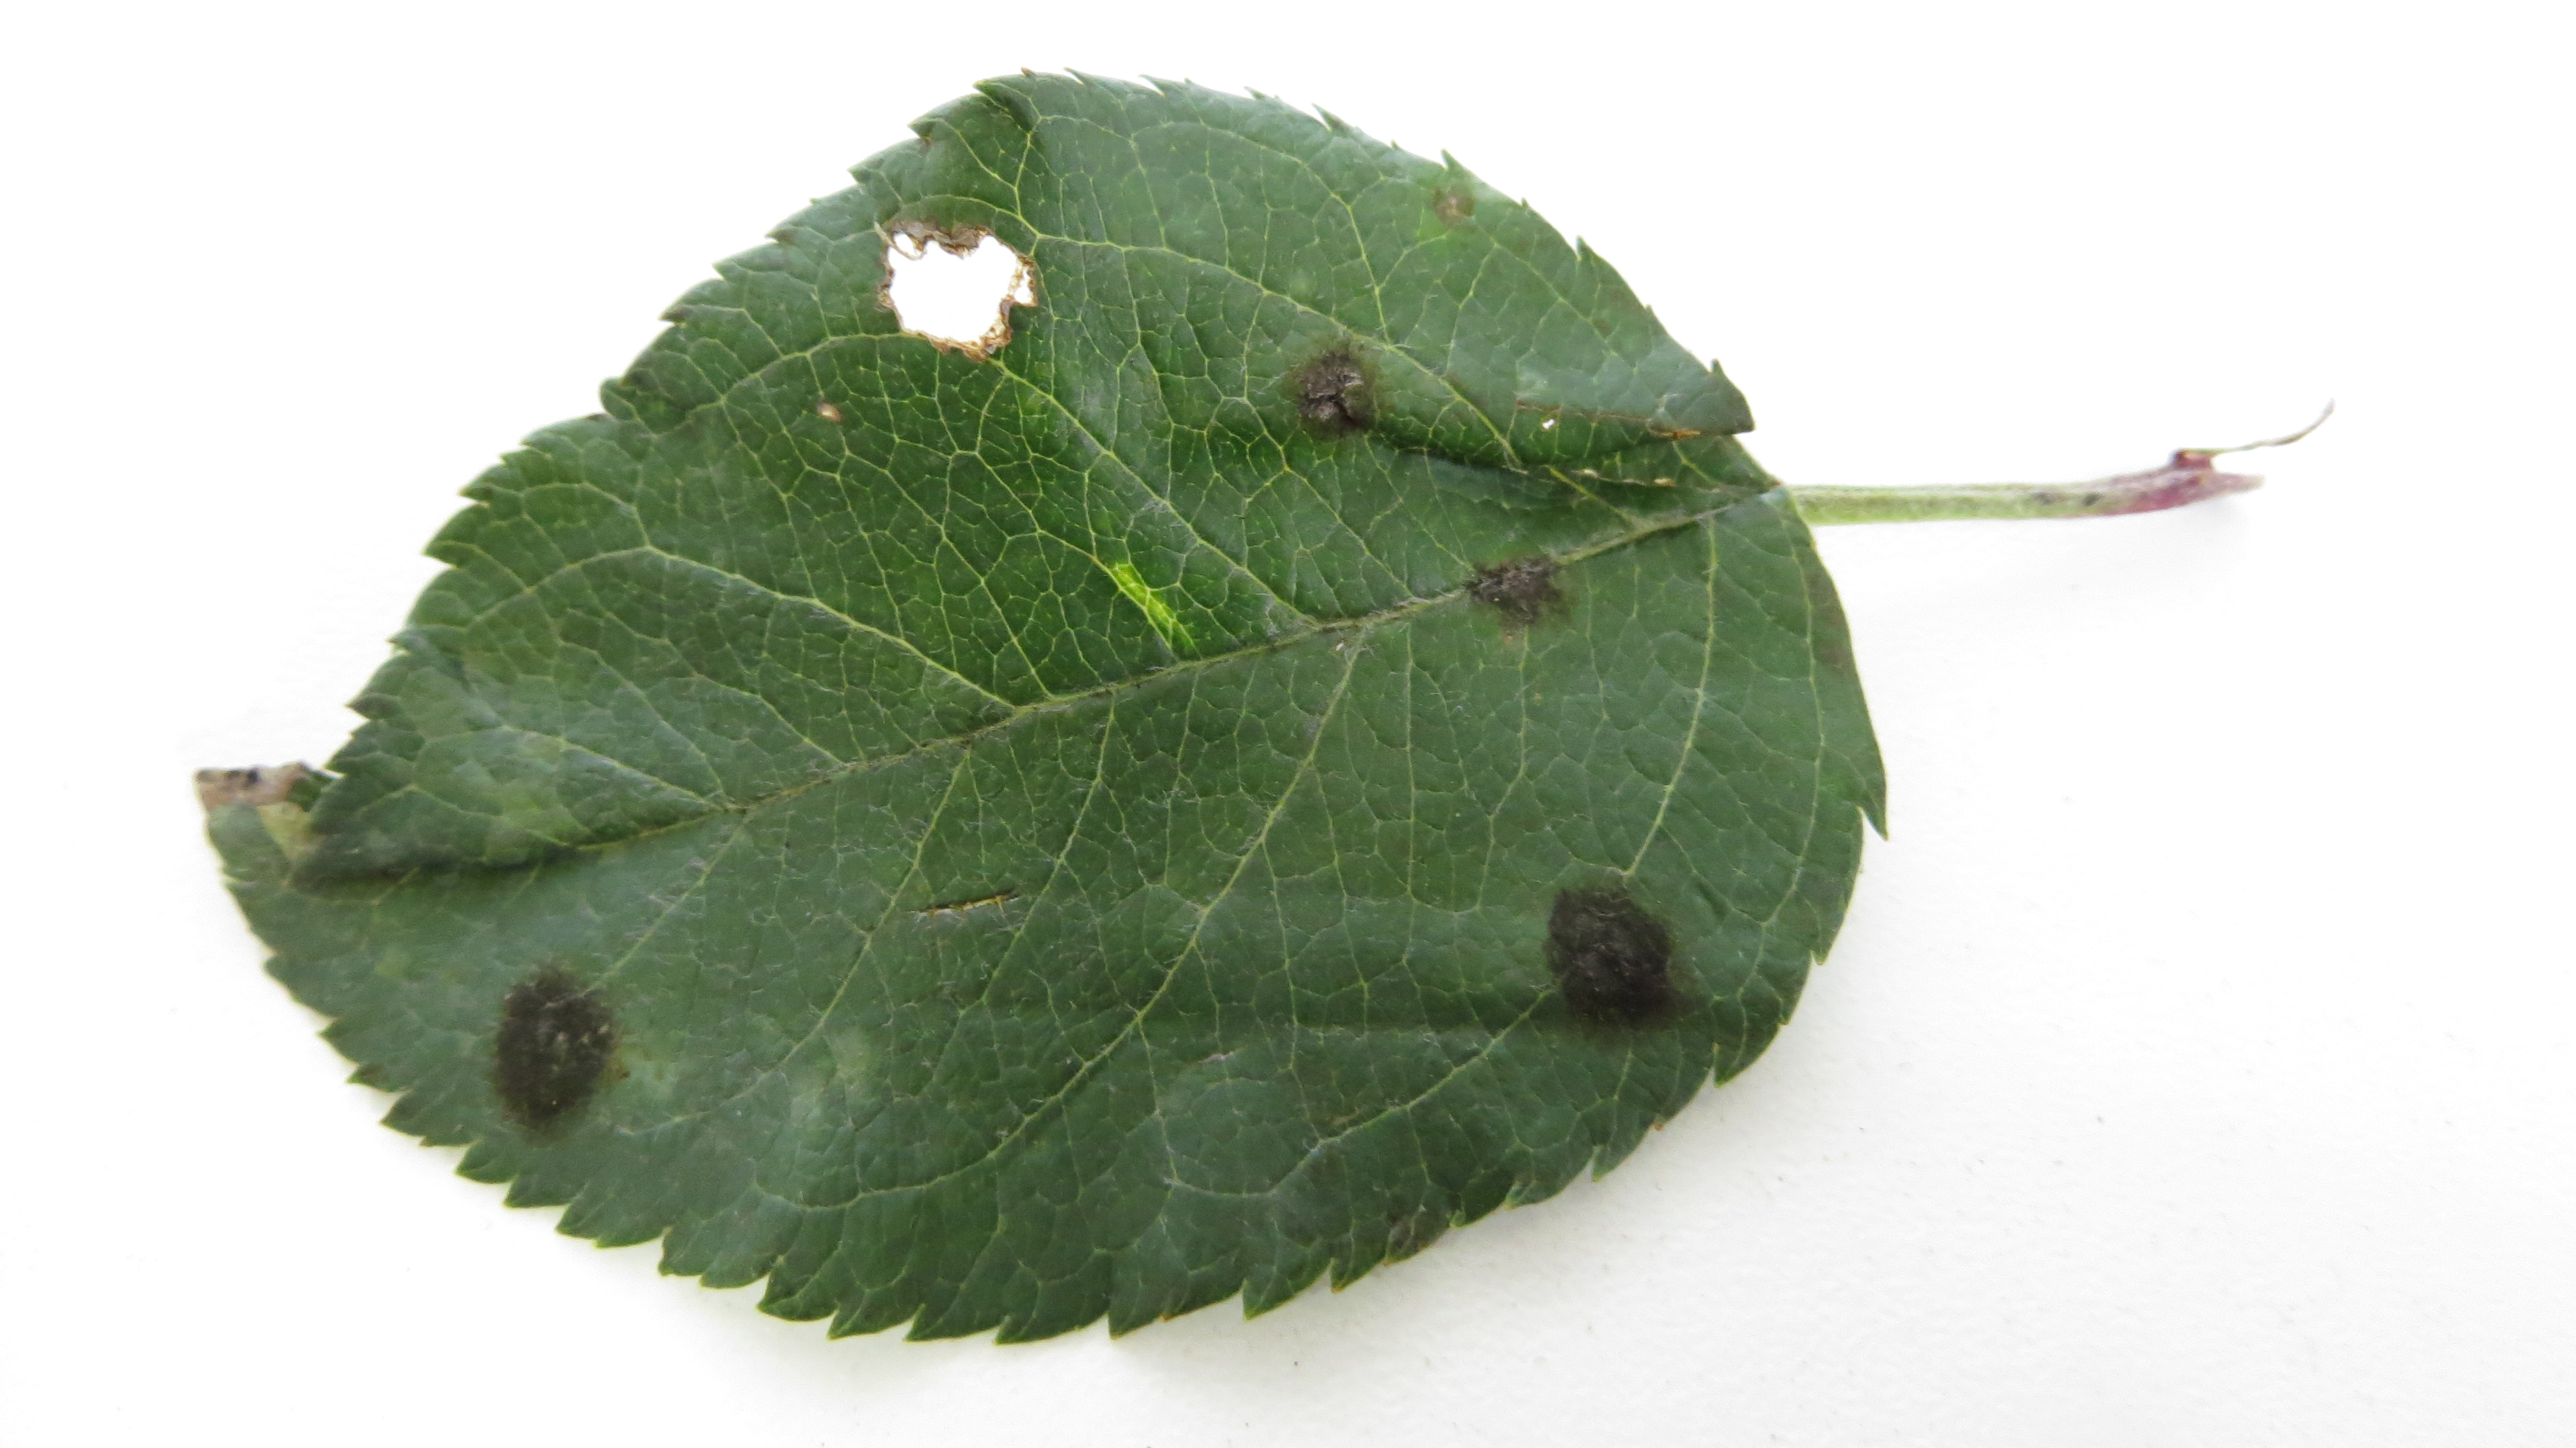sarna: (1537, 876, 1695, 1032), (483, 961, 623, 1129), (1279, 336, 1385, 441), (1463, 542, 1582, 628), (1414, 166, 1488, 246)
